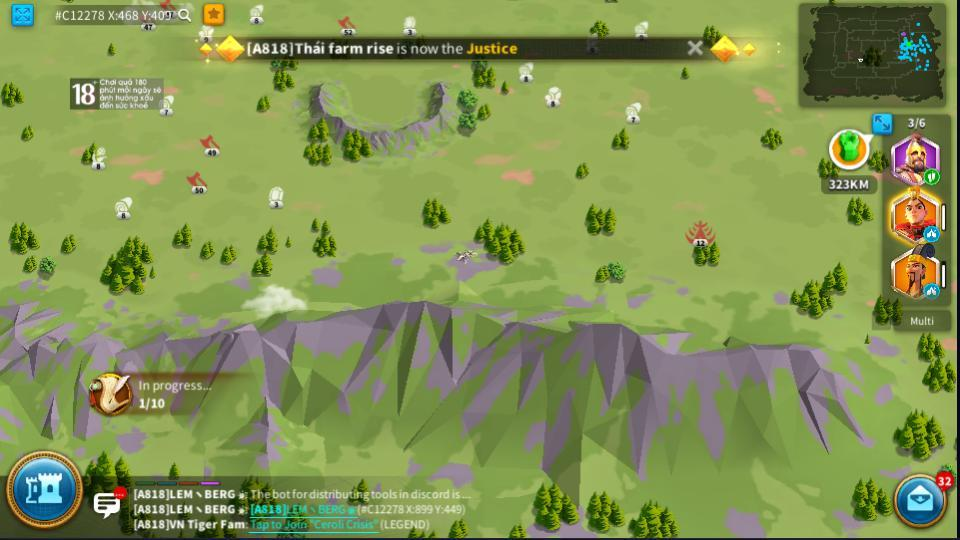gem-z-out: (400, 15, 418, 35)
march_idle: (923, 284, 939, 297), (923, 227, 938, 239)
march_marching: (923, 170, 938, 184)
